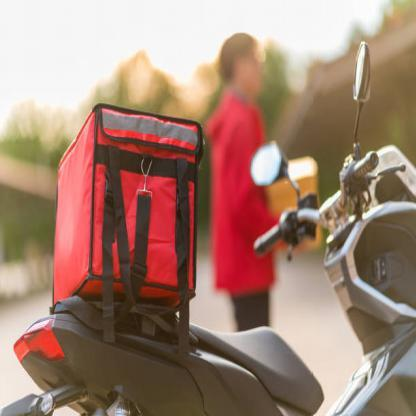Motorcycle: (14, 110, 415, 415)
